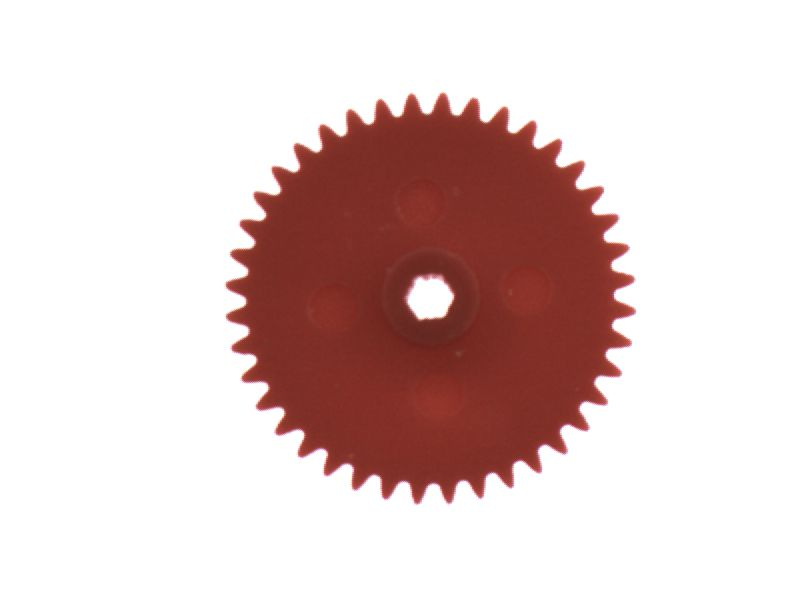good_product: (211, 77, 647, 514)
